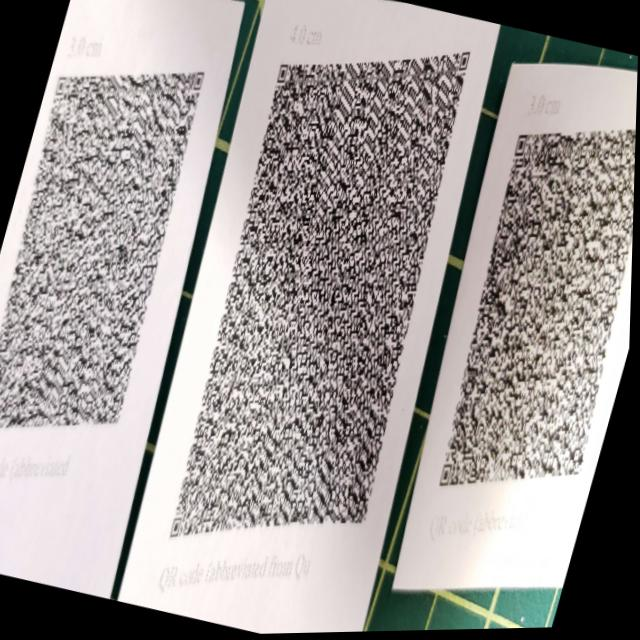QR_CODE: (137, 0, 507, 606), (0, 8, 236, 492), (408, 67, 638, 548)
